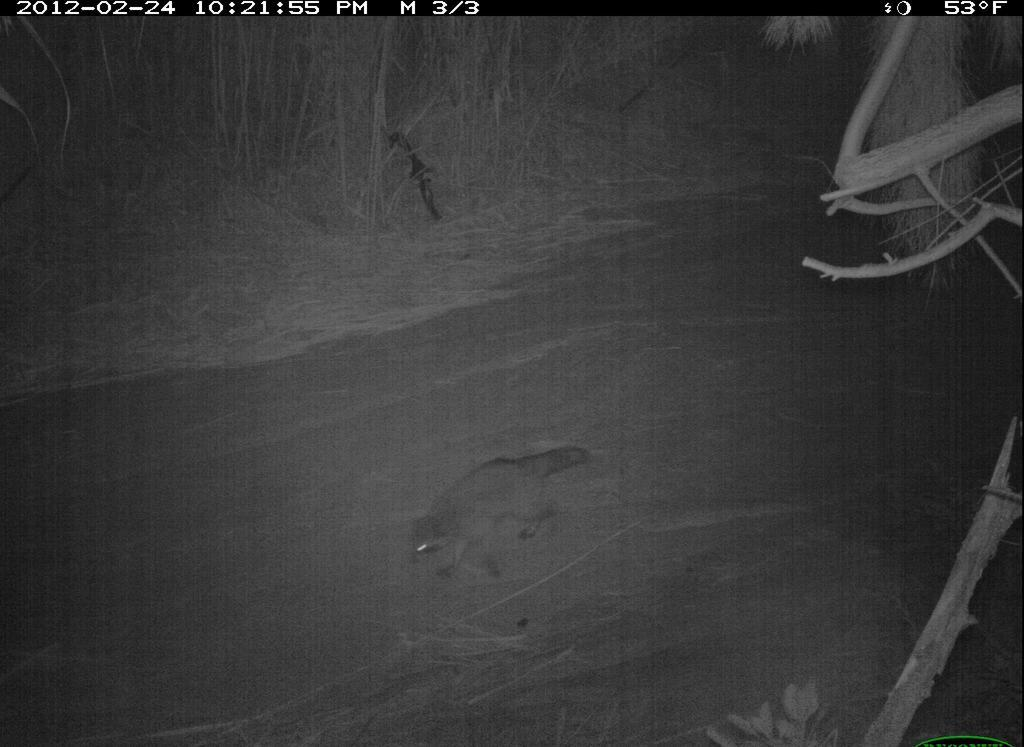raccoon: (397, 431, 589, 587)
